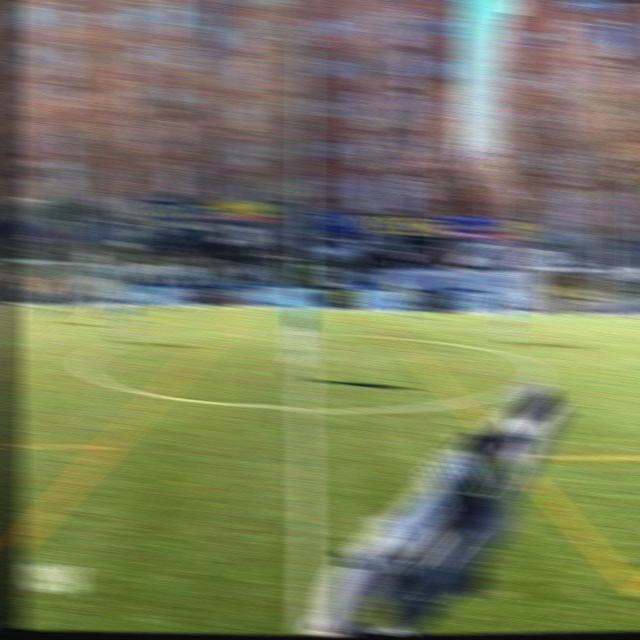halfcircle_bottom: (289, 388, 320, 434)
halfcircle_top: (297, 323, 313, 339)
midline_top_intersection: (296, 299, 316, 321)
